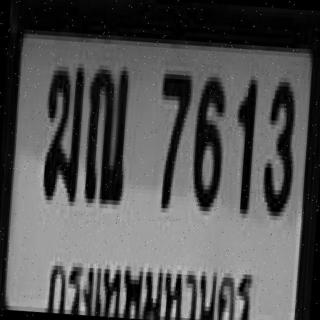A06: (39, 64, 84, 200)
A19: (81, 60, 131, 201)
N01: (230, 74, 258, 210)
N03: (260, 77, 298, 212)
N06: (188, 72, 226, 207)
N07: (153, 69, 191, 205)
P04: (44, 245, 259, 320)
